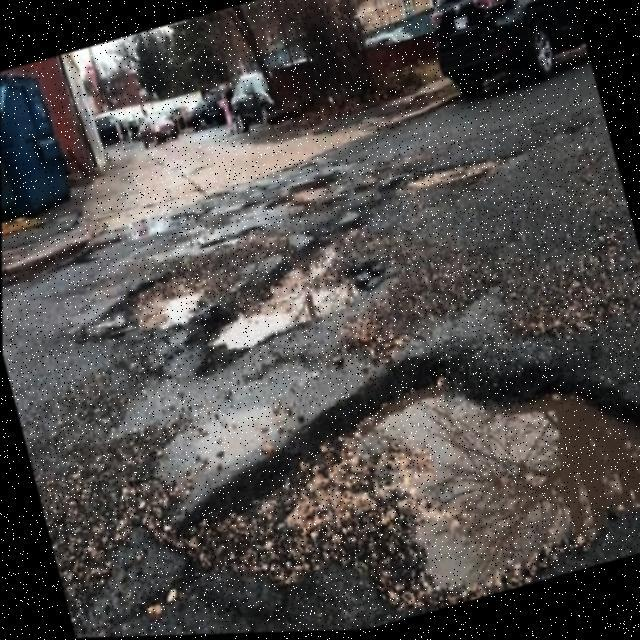pothole: (145, 290, 640, 637), (174, 222, 396, 376), (78, 260, 215, 354), (400, 151, 499, 201), (260, 171, 340, 219)
